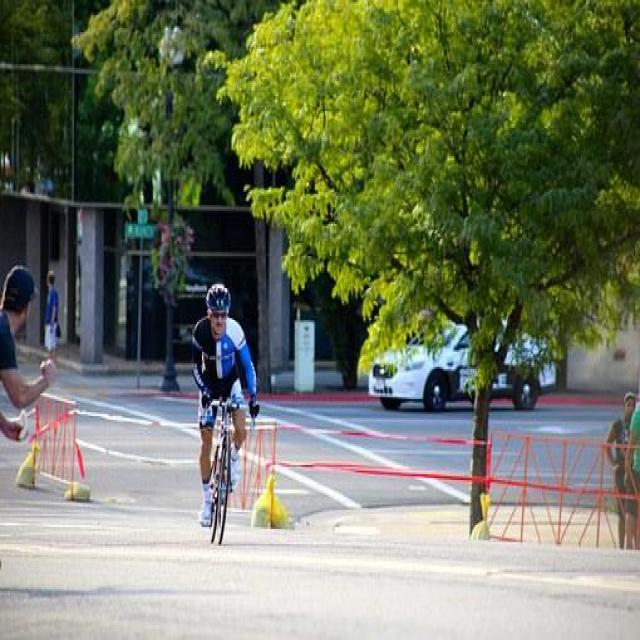bikerider: (174, 264, 270, 557)
